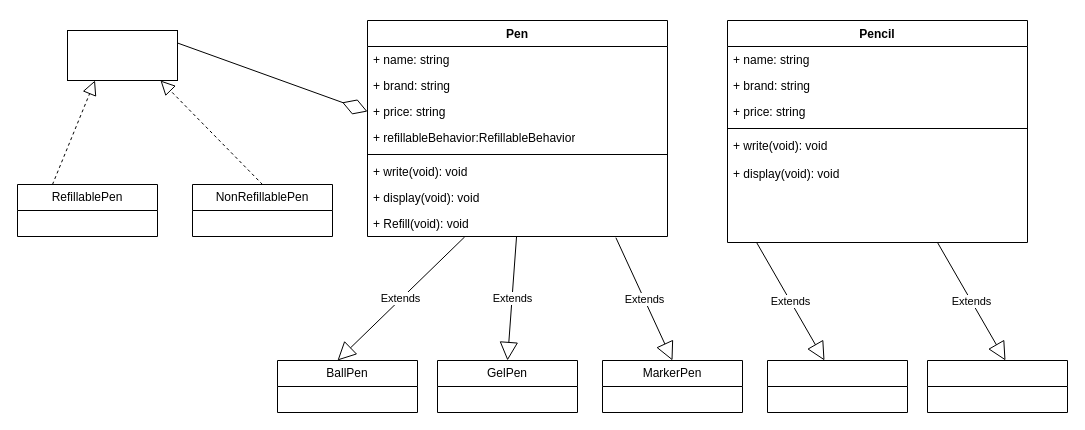
Some shapes in this 1085 by 430 pixel diagram are drawn without their labels. The centre of each missing label's shape, as x and y in pixels:
NormalPencil: point 837,386
PremiumPencil: point 997,386
« RefillBehavior » Refill(): point 122,55
